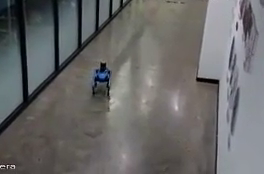robot dog: (90, 60, 112, 98)
